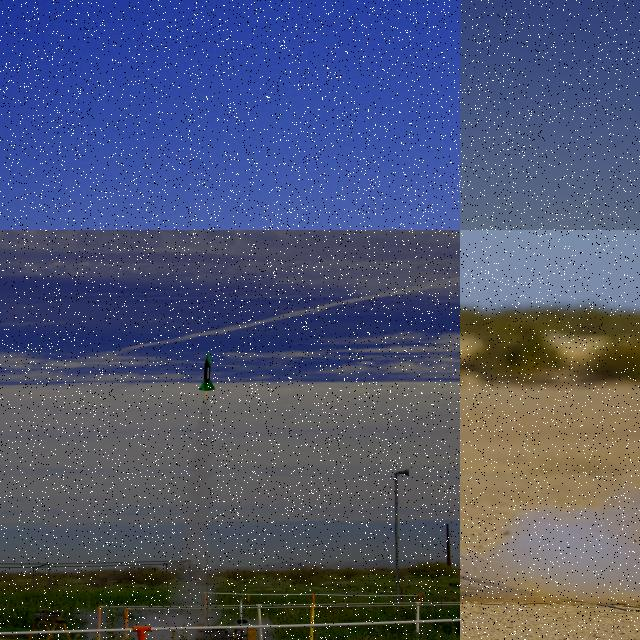Rocket: (198, 352, 216, 391), (236, 598, 248, 625)
